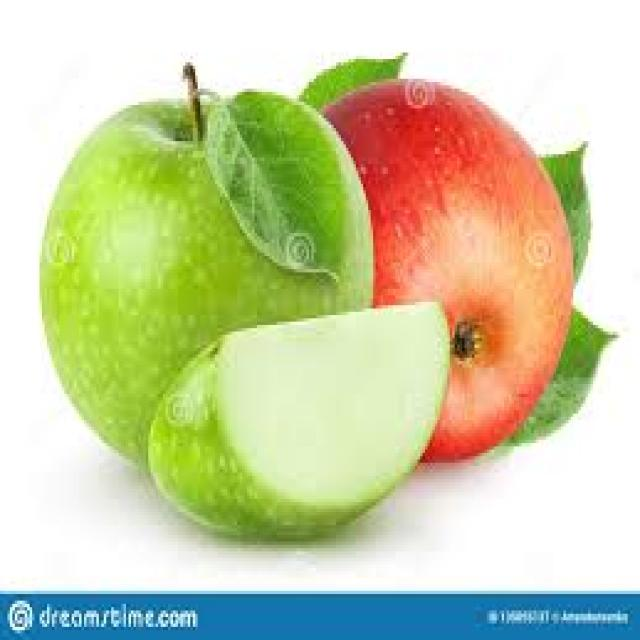apple: (38, 79, 381, 459)
